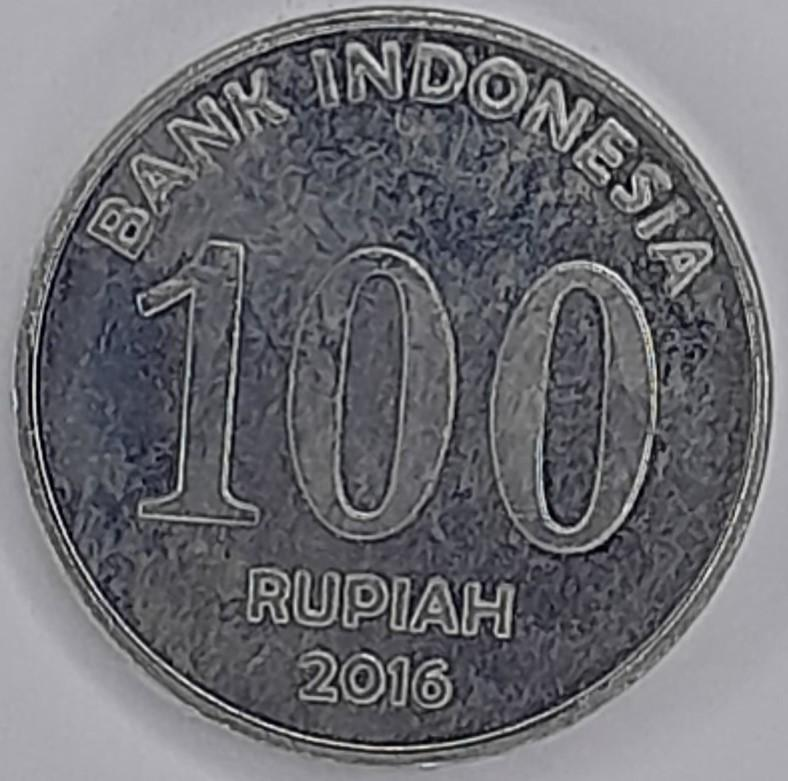coin_100_e2016: (7, 0, 779, 767)
